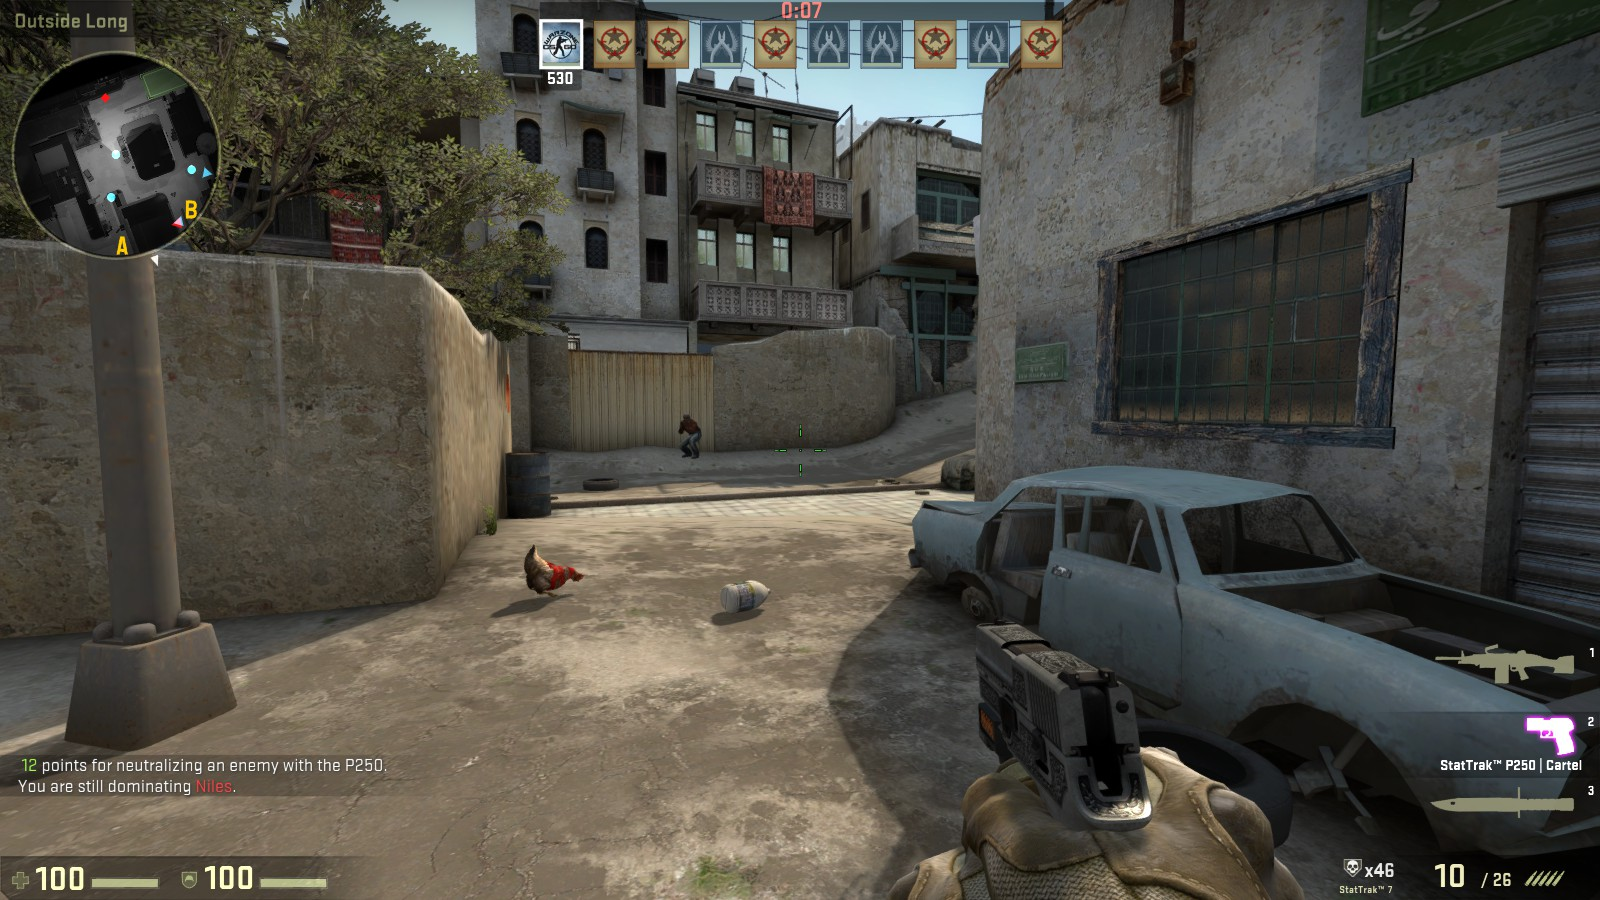t: (675, 414, 704, 459)
th: (681, 413, 693, 423)
